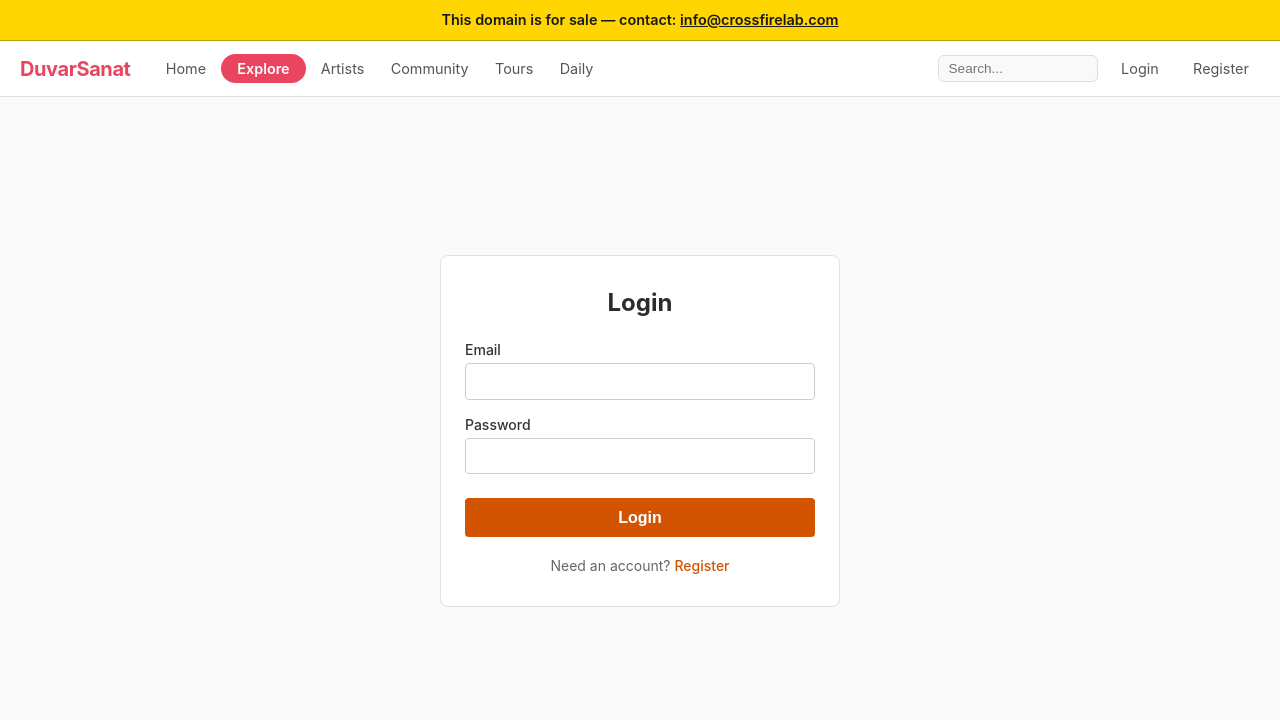
Scenario: LoginPage › shows validation error for empty password only
Type "test@example.com" into the field labelled "Email".
click(640, 382); type("test@example.com")  # box [465,363,815,400]
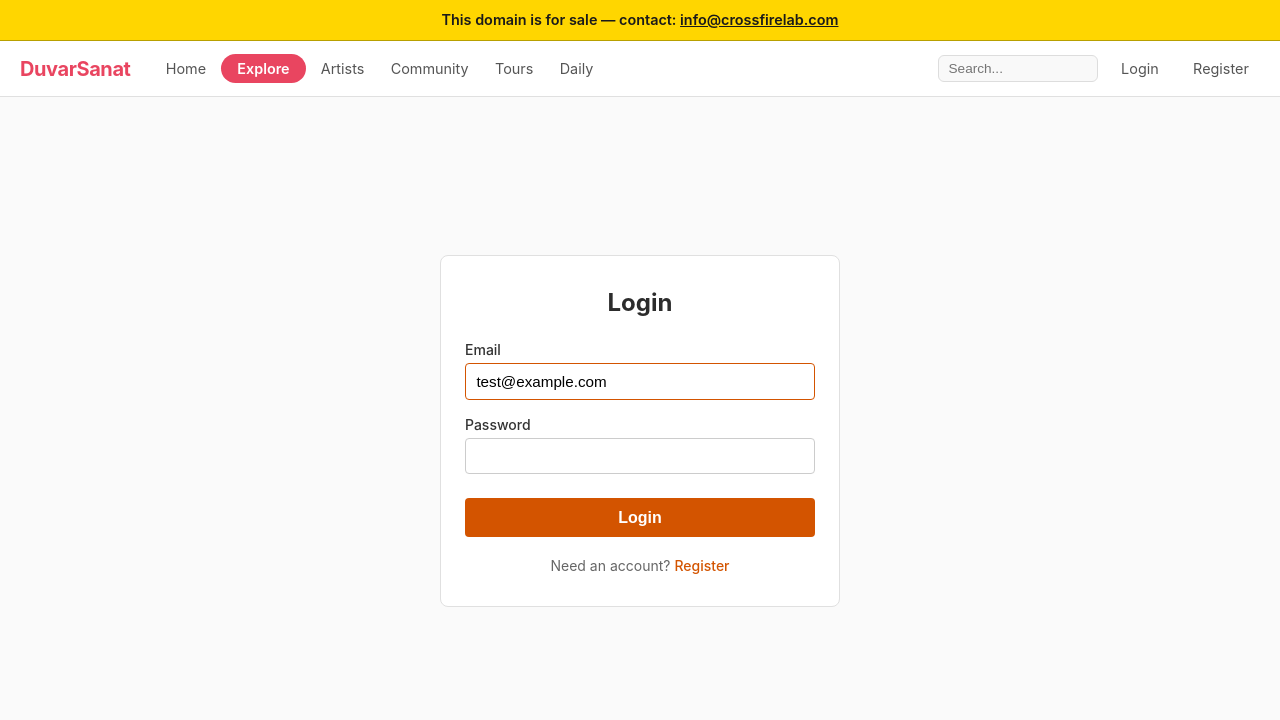
Click the button "Login".
click(640, 518)  # box [465,498,815,537]
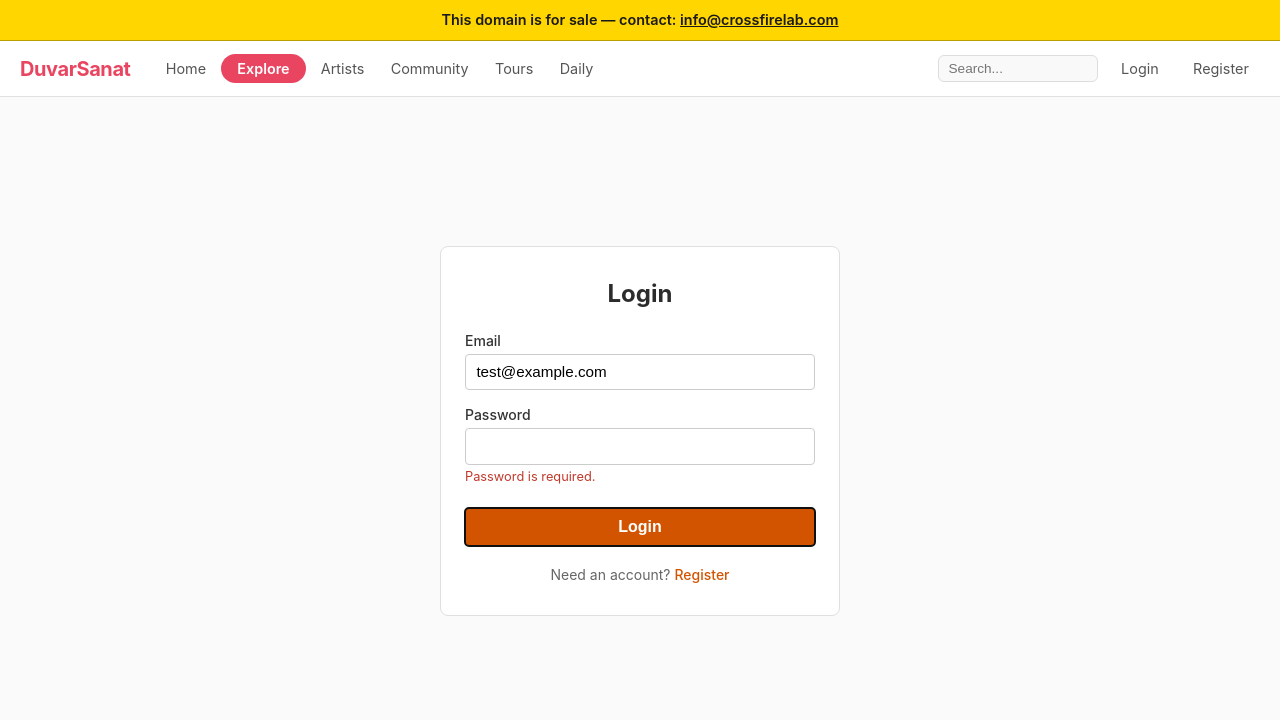
expect the text "Password is required." is shown: met, box [465,469,595,484]
